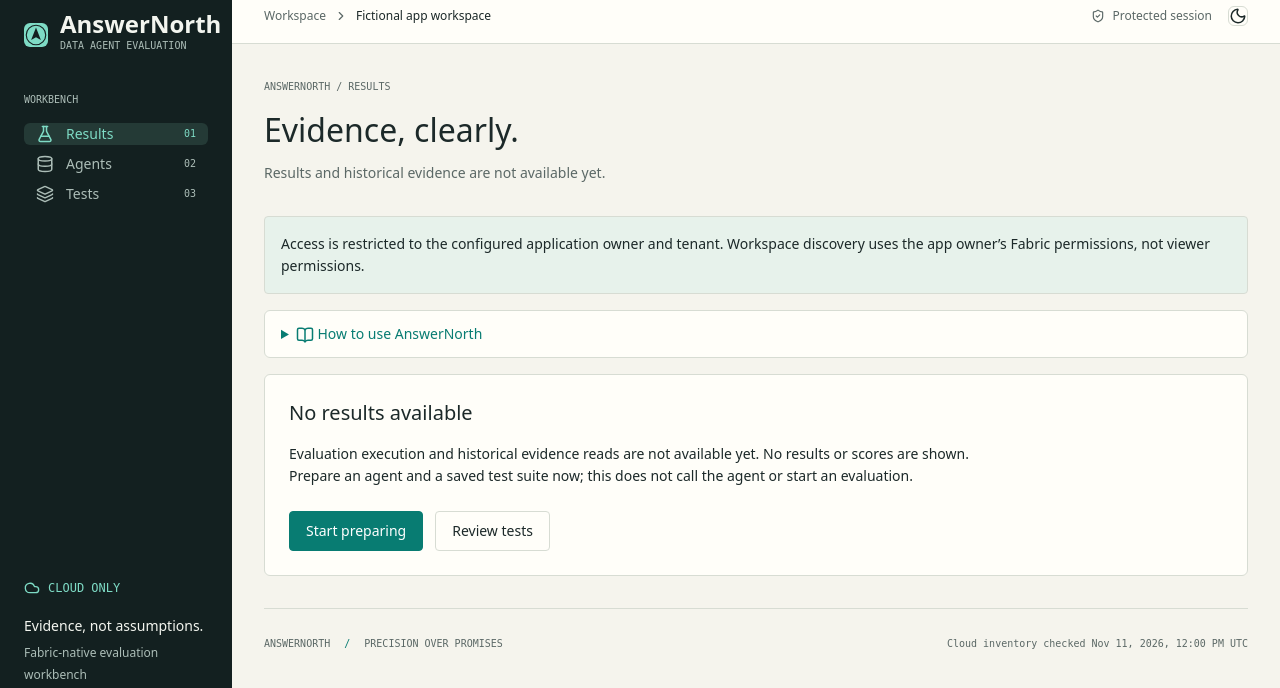
Test case: Proofbench › does not claim persistence after a rejected save
This screenshot has width=1280, height=688.
Expected: the text "Fictional app workspace" is shown, [356,5,491,27]
Click the link "Tests 03". click: x=83, y=194
box: [24,183,208,205]
(page scrolled)
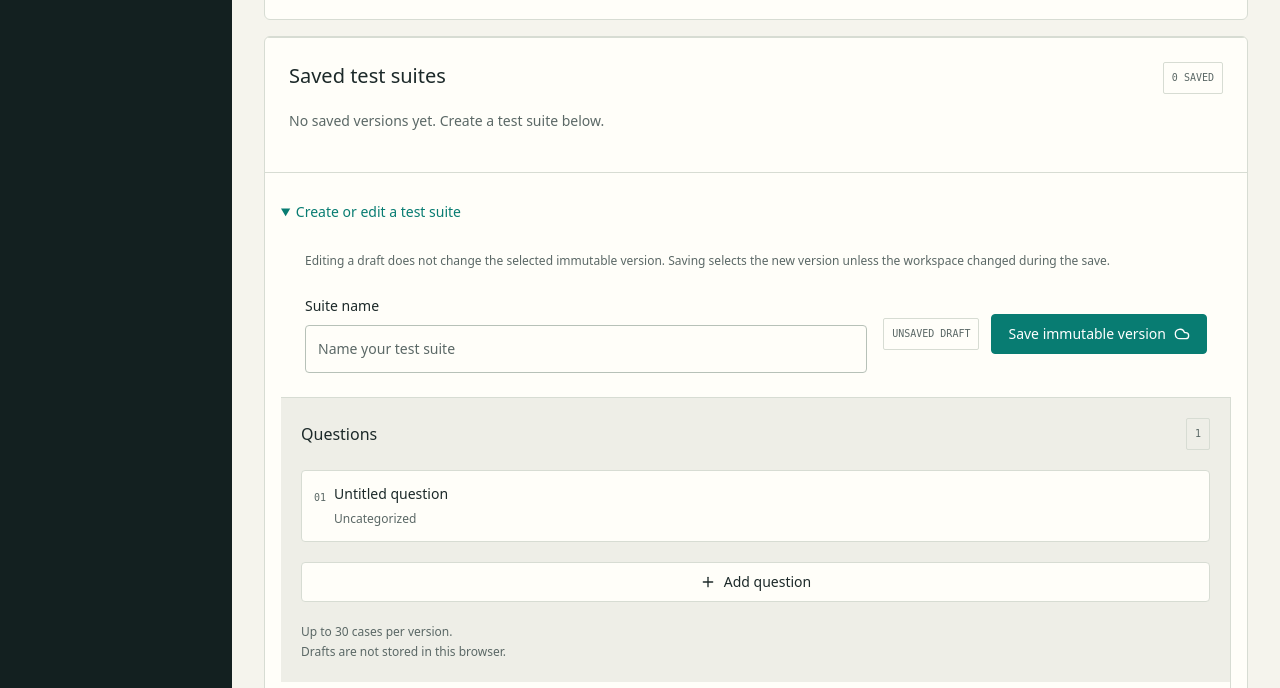
Type "Fictional checks" into the field labelled "Suite name". click: x=586, y=349
box: [305,325,867,373]
(page scrolled)
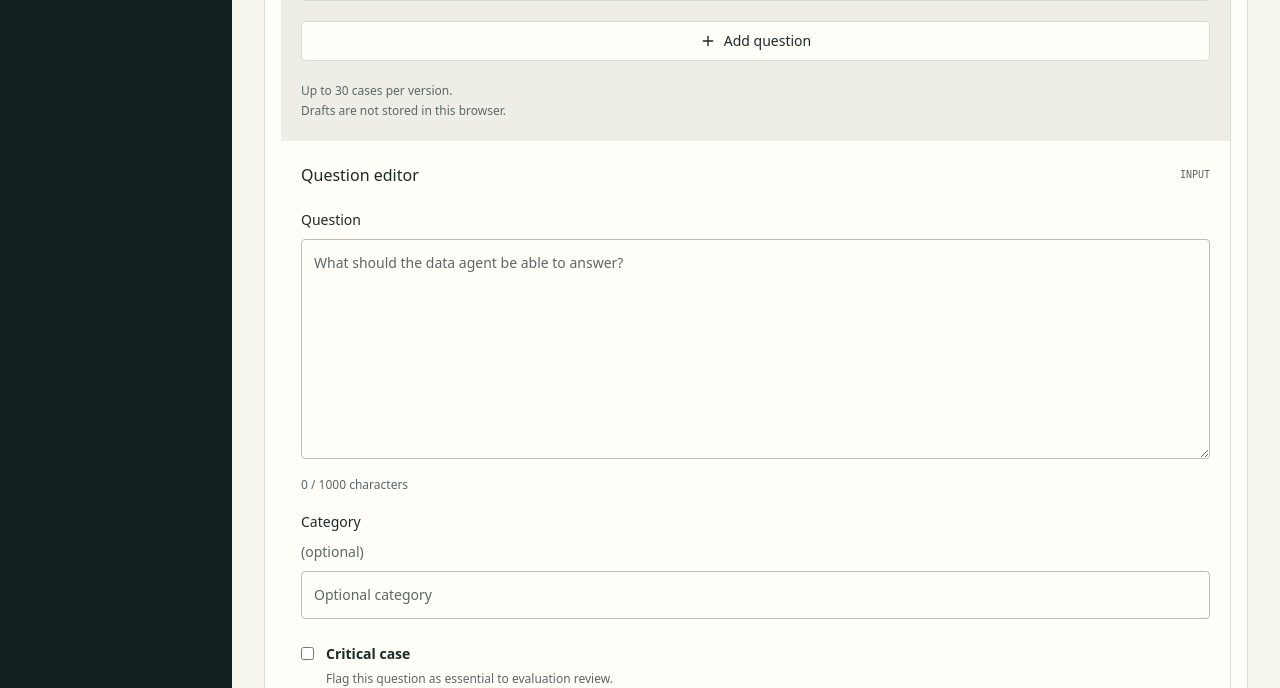
Type "What color is the fictional marker?" into the text box labelled "Question". click: x=756, y=349
box: [301,239,1210,459]
(page scrolled)
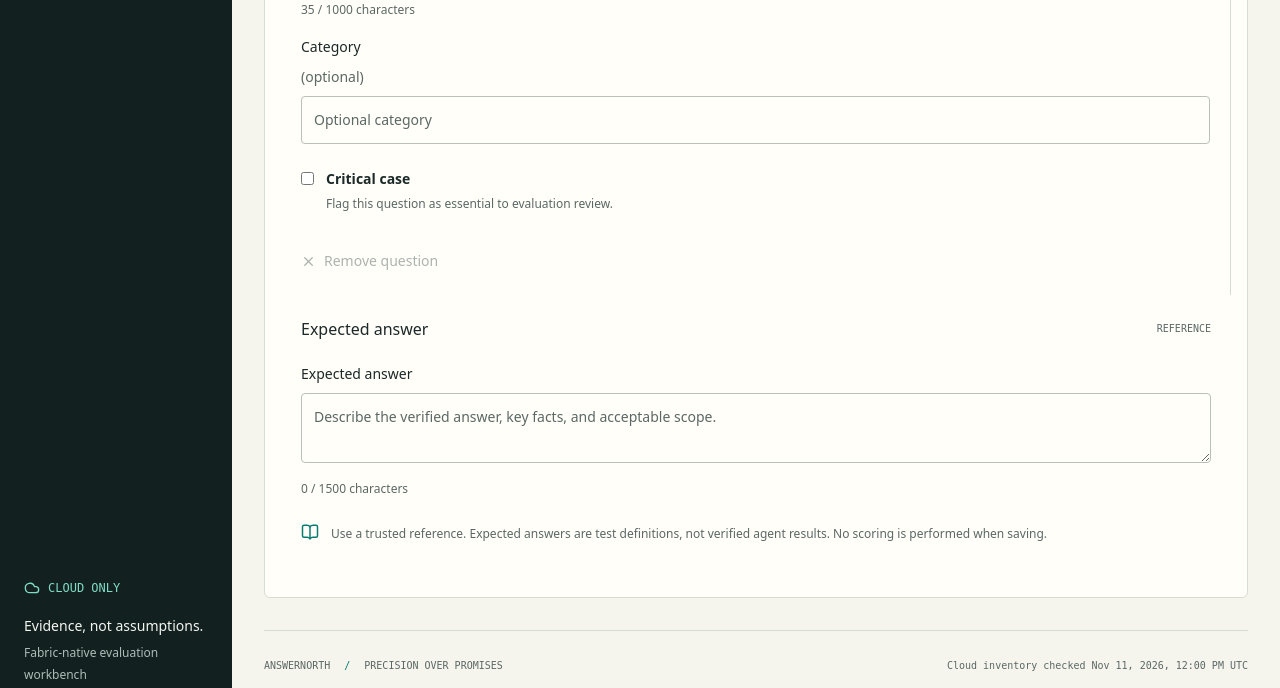
Replace the text in the text box labelled "Expected answer" with "The fictional marker is blue.". click: x=756, y=428
box: [301,392,1211,462]
(page scrolled)
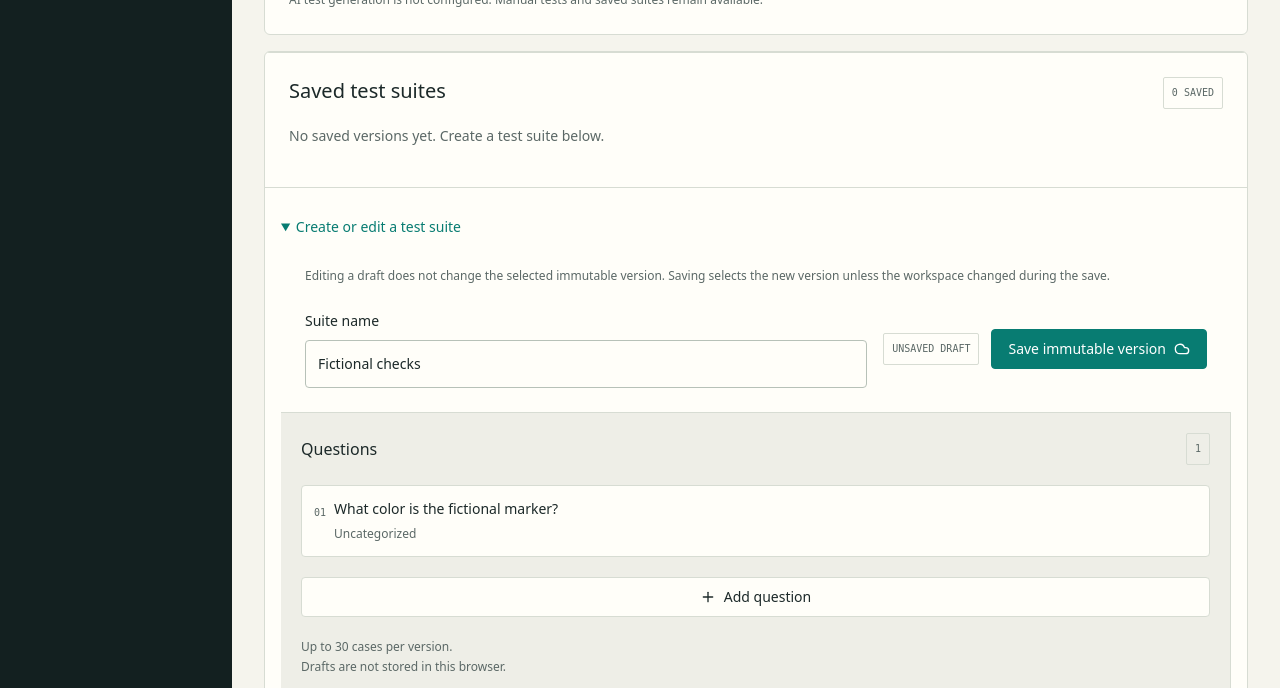
Click the button "Save immutable version". click: x=1099, y=349
box: [992,329,1207,369]
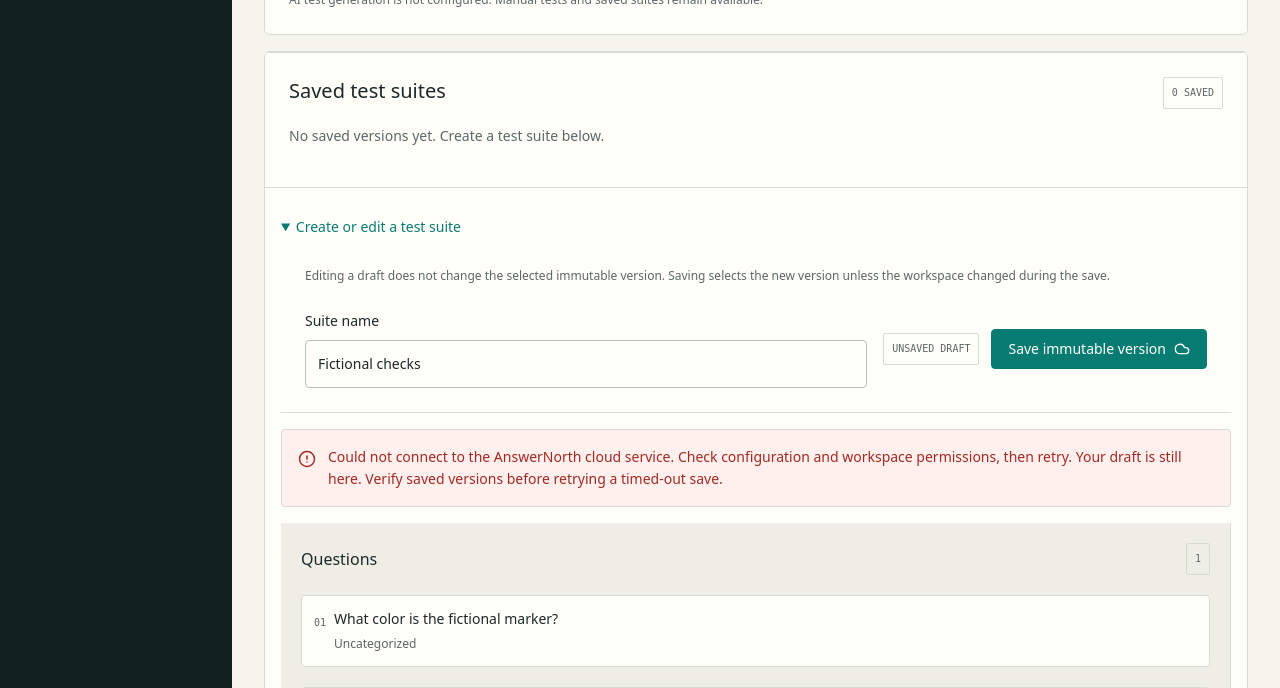
Result: the text "UNSAVED DRAFT" is shown at [883,333,980,365]
Result: the message shows "Your draft is still here" at [328,447,1182,488]
